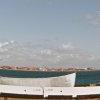Boat: (4, 60, 81, 100)
